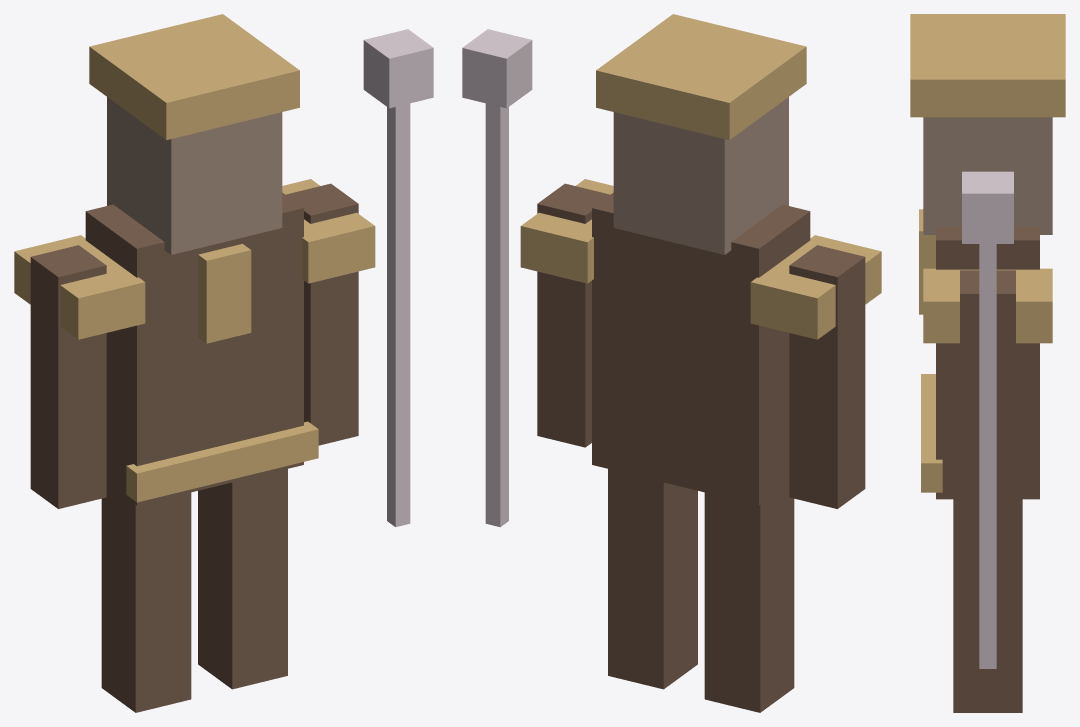
File: 01_noor_rootborne_oracle_under_syllable.glb
3 renders of one model, left to right at view 1: azimuth 30°, elevation 25°; view 2: azimuth 150°, elevation 25°; view 3: azimuth 270°, elevation 25°, orthographic.
Parts seen in each view (by area): view 1: Noor Rootborne, Oracle under Syllable; view 2: Noor Rootborne, Oracle under Syllable; view 3: Noor Rootborne, Oracle under Syllable.
Part boxes in pixels (x1,y1,x2,y2): Noor Rootborne, Oracle under Syllable: (14,14,433,712); Noor Rootborne, Oracle under Syllable: (462,14,881,712); Noor Rootborne, Oracle under Syllable: (910,14,1065,712).
Bounding box in the file's own units: 0.9409 × 1.49 × 0.3337.
